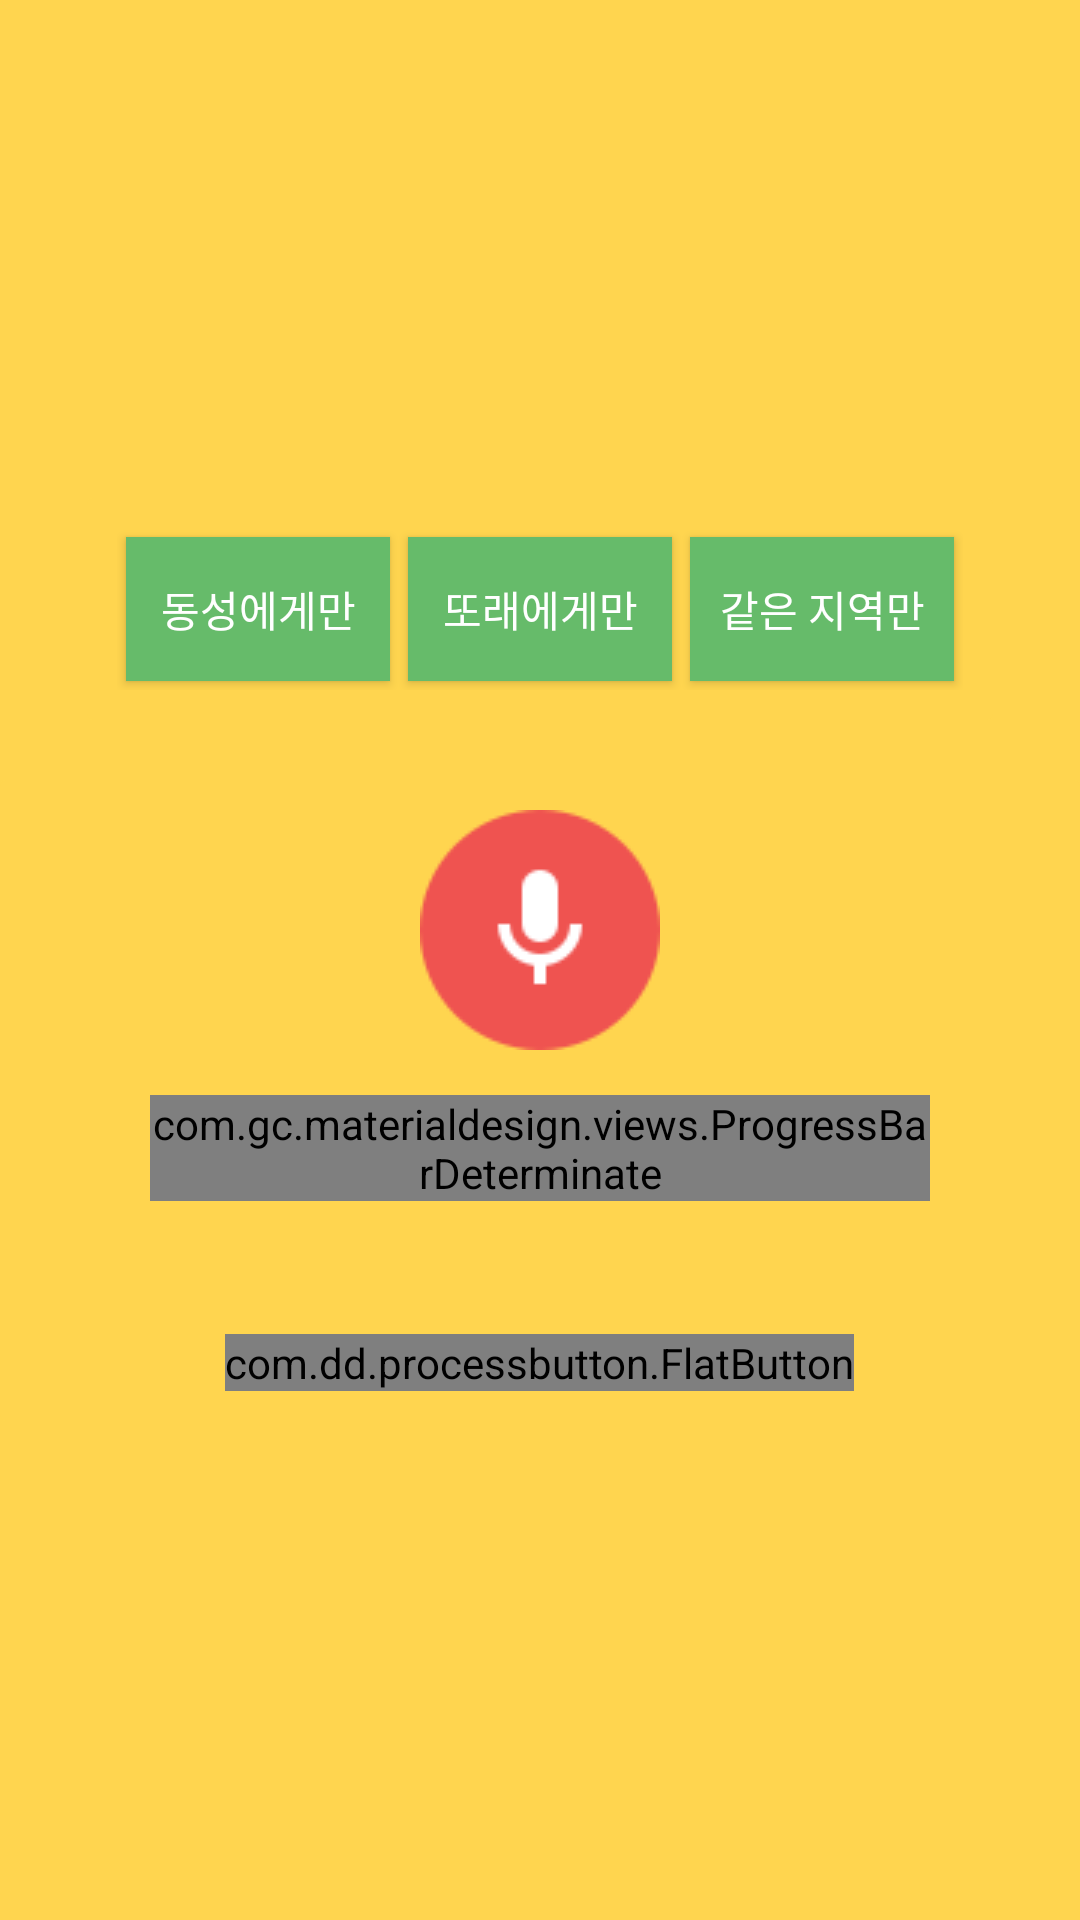

Locate icon controls on the screen. Image size 1080px×1920px, boxes as (x1, y1, x2, y2).
recording: (420, 810, 660, 1050)
